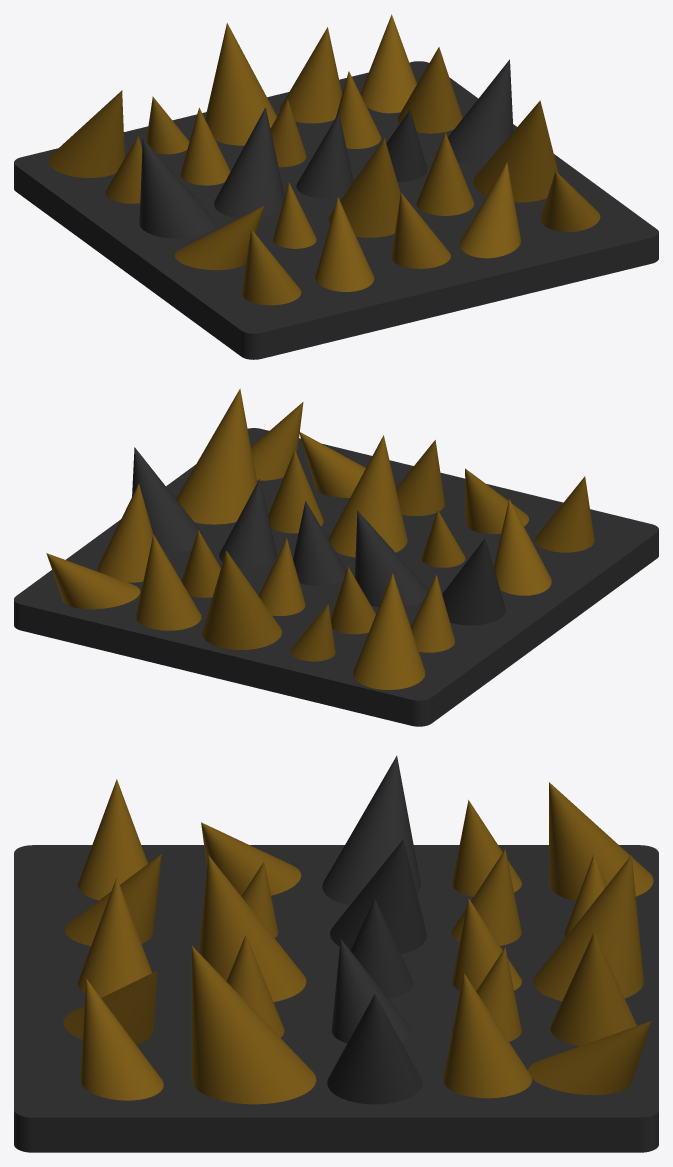
The model's file is Espinhos madeira v4.fbx.
3 views of the same model, one above another, from view 1: azimuth 30°, elevation 25°; view 2: azimuth 150°, elevation 25°; view 3: azimuth 270°, elevation 25° (orthographic). The views are drawn at different scales.
Parts seen in each view (by area): view 1: Body68, Body63, Body51, Body59, Body53, Body70, Body60, Body57, Body69, Body58, Body64, Body52 (+9 smaller); view 2: Body68, Body51, Body59, Body63, Body53, Body60, Body64, Body58, Body57, Body66, Body67, Body70 (+9 smaller); view 3: Body68, Body51, Body63, Body53, Body58, Body50, Body59, Body57, Body60, Body67, Body66, Body64 (+9 smaller).
Boxes of the visible parts, x1=… form: Body68: x1=14, y1=59, x2=658, y2=359; Body63: x1=205, y1=23, x2=277, y2=145; Body51: x1=473, y1=100, x2=558, y2=202; Body59: x1=48, y1=90, x2=124, y2=177; Body53: x1=329, y1=138, x2=400, y2=237; Body70: x1=460, y1=162, x2=520, y2=258; Body60: x1=279, y1=27, x2=342, y2=123; Body57: x1=360, y1=14, x2=416, y2=113; Body69: x1=315, y1=197, x2=374, y2=291; Body58: x1=397, y1=47, x2=462, y2=133; Body64: x1=175, y1=206, x2=264, y2=270; Body52: x1=416, y1=132, x2=474, y2=215; Body68: x1=14, y1=428, x2=658, y2=726; Body51: x1=176, y1=388, x2=257, y2=524; Body59: x1=353, y1=573, x2=425, y2=689; Body63: x1=202, y1=550, x2=281, y2=649; Body53: x1=328, y1=435, x2=407, y2=557; Body60: x1=136, y1=534, x2=201, y2=630; Body64: x1=493, y1=499, x2=551, y2=595; Body58: x1=97, y1=483, x2=153, y2=582; Body57: x1=46, y1=553, x2=140, y2=609; Body66: x1=535, y1=476, x2=594, y2=552; Body67: x1=396, y1=440, x2=444, y2=515; Body70: x1=299, y1=431, x2=365, y2=497; Body68: x1=14, y1=755, x2=658, y2=1152; Body51: x1=191, y1=945, x2=316, y2=1104; Body63: x1=533, y1=855, x2=643, y2=1001; Body53: x1=199, y1=855, x2=306, y2=1001; Body58: x1=443, y1=973, x2=531, y2=1098; Body50: x1=80, y1=979, x2=163, y2=1100; Body59: x1=549, y1=782, x2=653, y2=900; Body57: x1=528, y1=1020, x2=651, y2=1095; Body60: x1=550, y1=932, x2=636, y2=1046; Body67: x1=78, y1=877, x2=152, y2=997; Body66: x1=78, y1=779, x2=147, y2=900; Body64: x1=201, y1=822, x2=301, y2=895.
Bounding box in the file's own units: 50 × 14.5 × 50.
